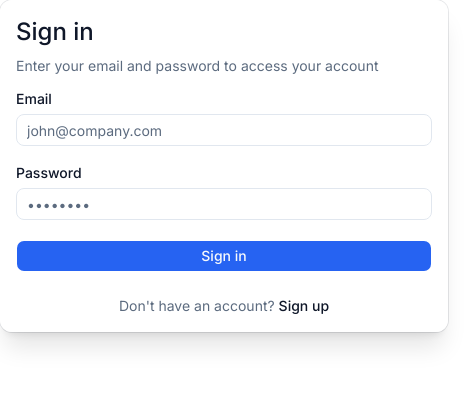
it: SignInForm – failure › shows the action's message as an alert, linked to the fields
Type "jane@example.com" into the field labelled "Email" at (224, 130), box [16, 114, 432, 146]
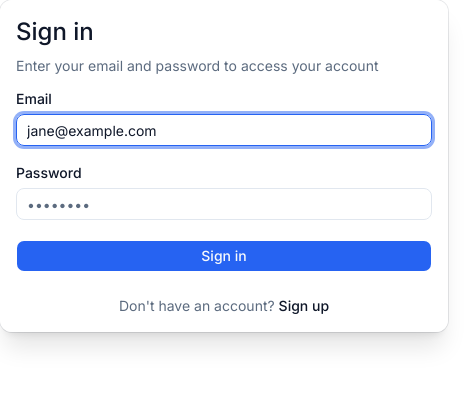
Type "hunter22" into the password field labelled "Password" at (224, 204), box [16, 188, 432, 220]
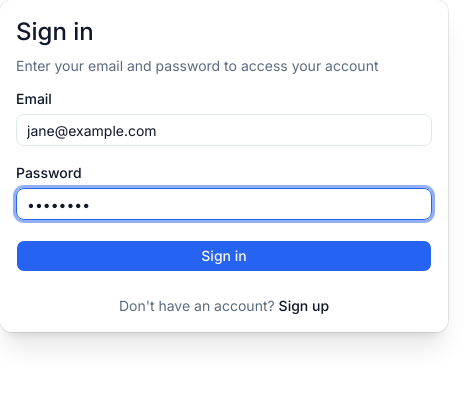
Click the button "Sign in" at (224, 256), box [16, 240, 432, 272]
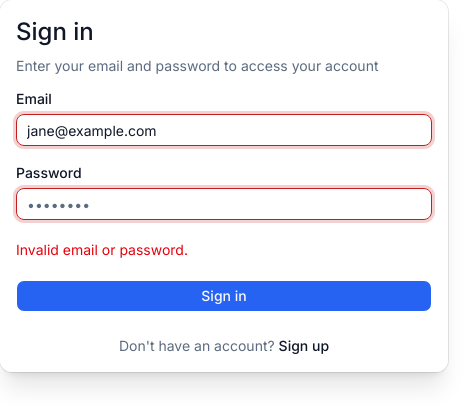
Expected: the message reads "Invalid email or password.", [16, 241, 188, 258]
